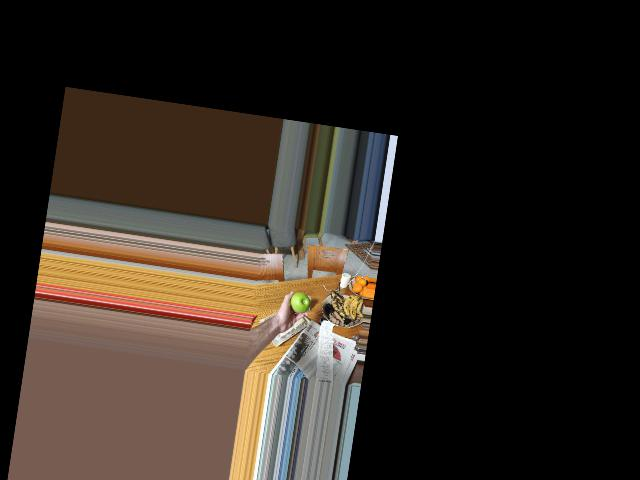apple: (288, 290, 310, 315)
